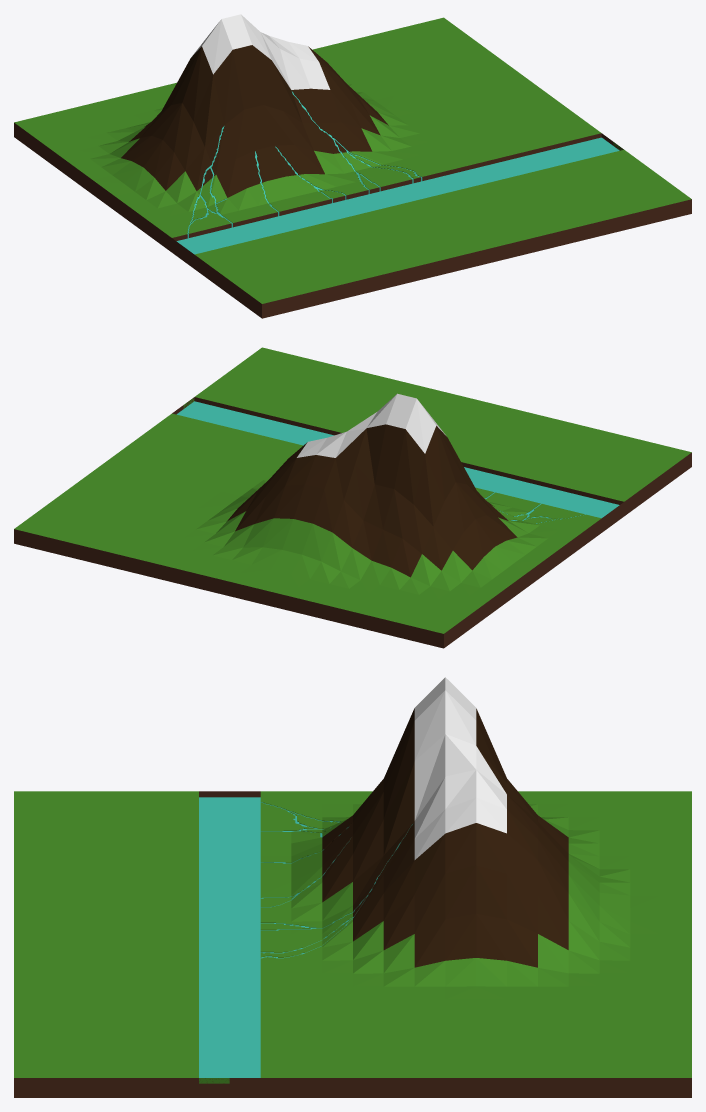
Rendered from terrain-rivers.fbx.
3 renders of one model, top to bottom at view 1: azimuth 30°, elevation 25°; view 2: azimuth 150°, elevation 25°; view 3: azimuth 270°, elevation 25°, orthographic. The views are drawn at different scales.
Parts seen in each view (by area): view 1: Plane; view 2: Plane; view 3: Plane.
Part boxes in pixels (bbox=[...]): Plane: bbox=[14, 14, 691, 318]; Plane: bbox=[14, 347, 691, 648]; Plane: bbox=[14, 677, 691, 1097].
Bounding box in the file's own units: 687 × 237 × 687.
